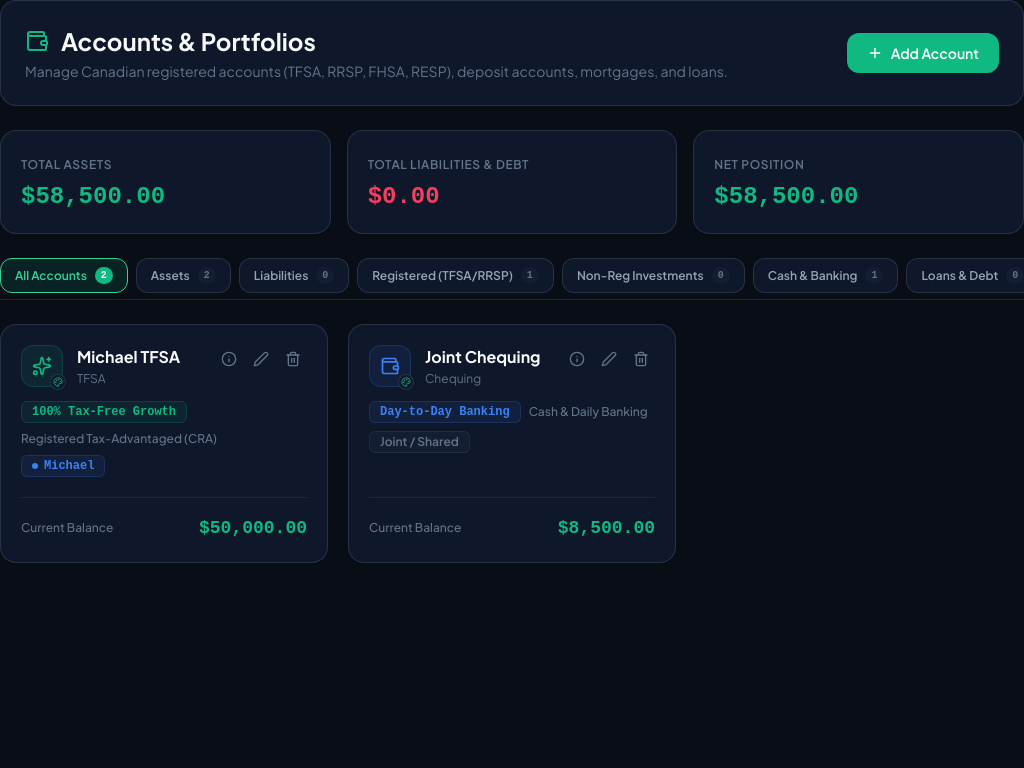
Scenario: AccountsManagerView Household Features › renders Account Ownership dropdown and Canadian note in modal
Click the button "Add Account".
click(923, 53)  # box [847, 33, 999, 73]
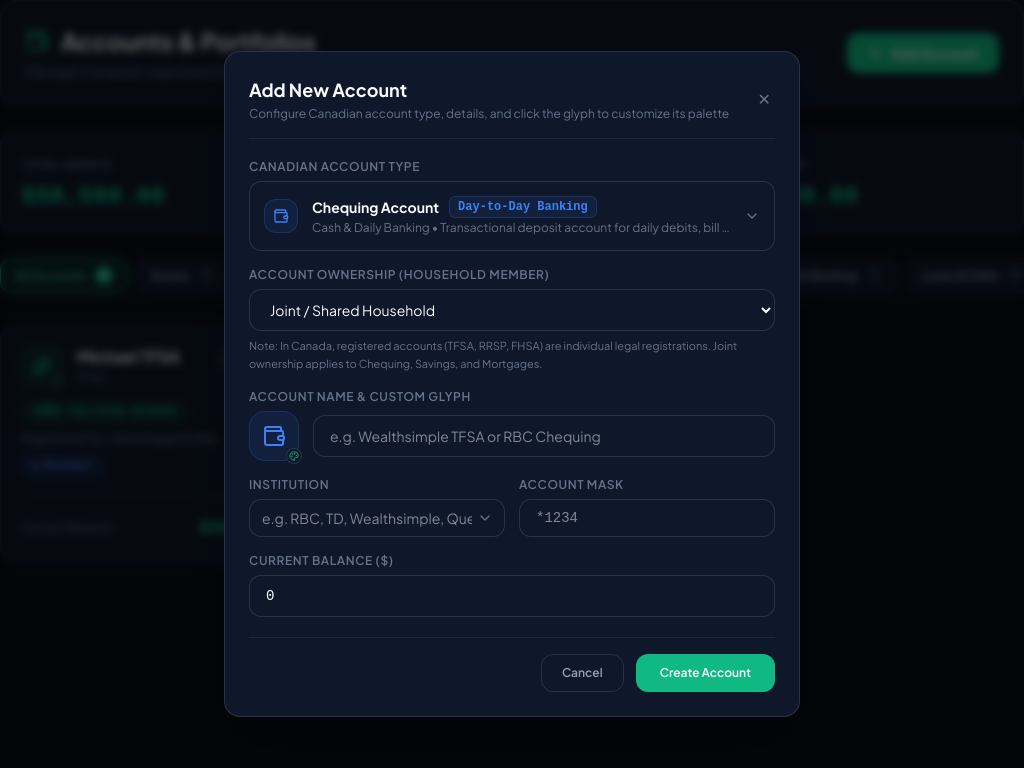
Now the text "Account Ownership (Household Member)" is shown, box [249, 267, 549, 282]
Now the text "In Canada, registered accounts (TFSA, RRSP, FHSA) are individual legal registrations" is shown, box [249, 339, 737, 370]
